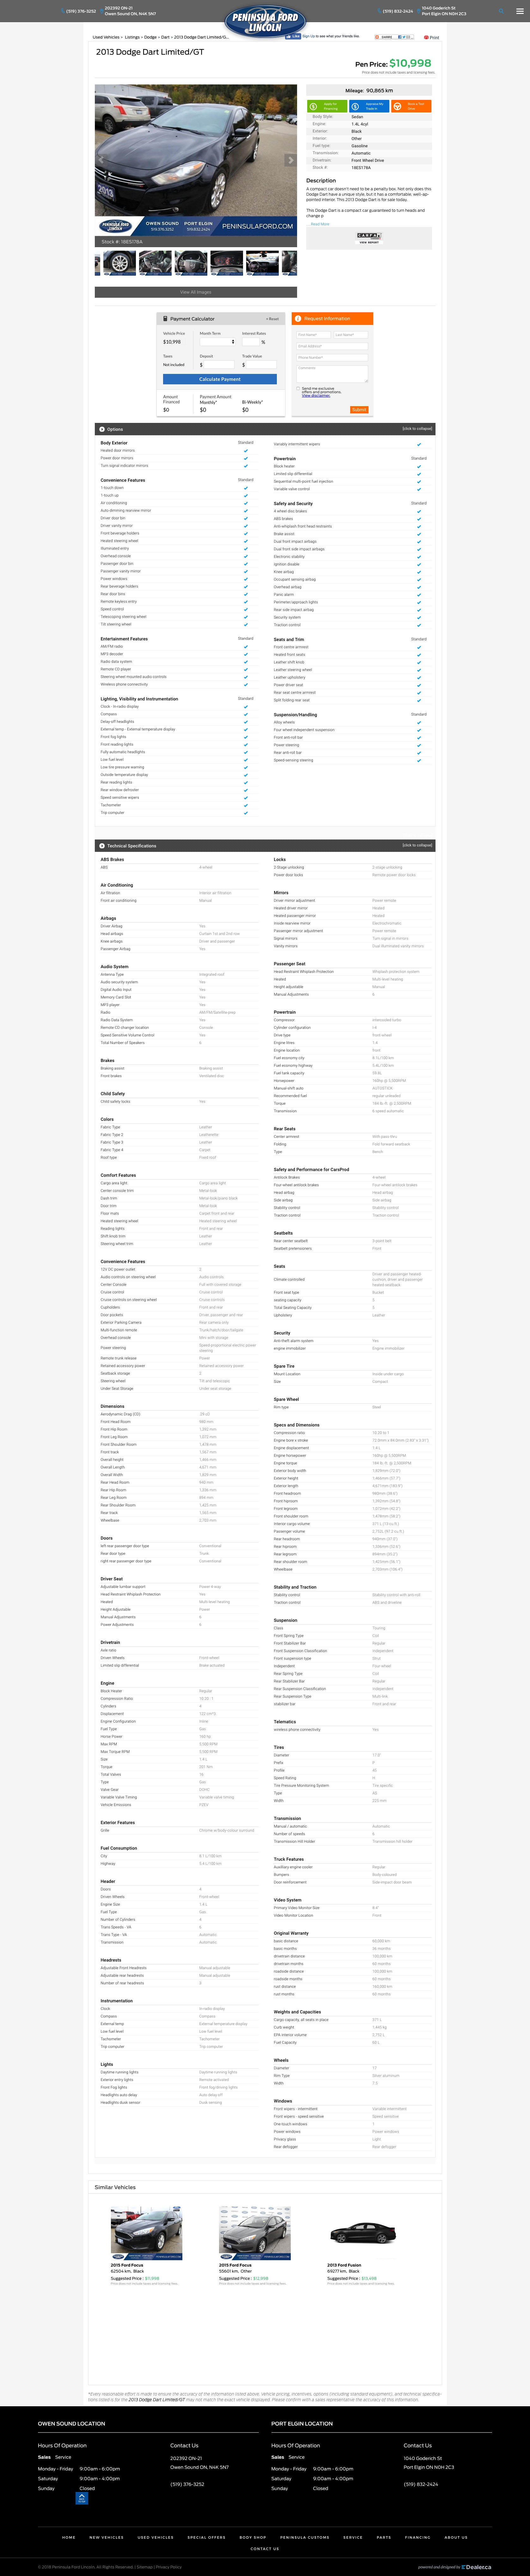car: (284, 154, 299, 168)
